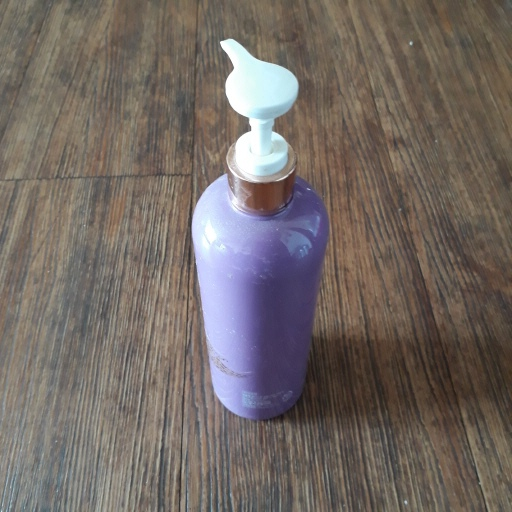Plastic_3: (186, 35, 329, 426)
